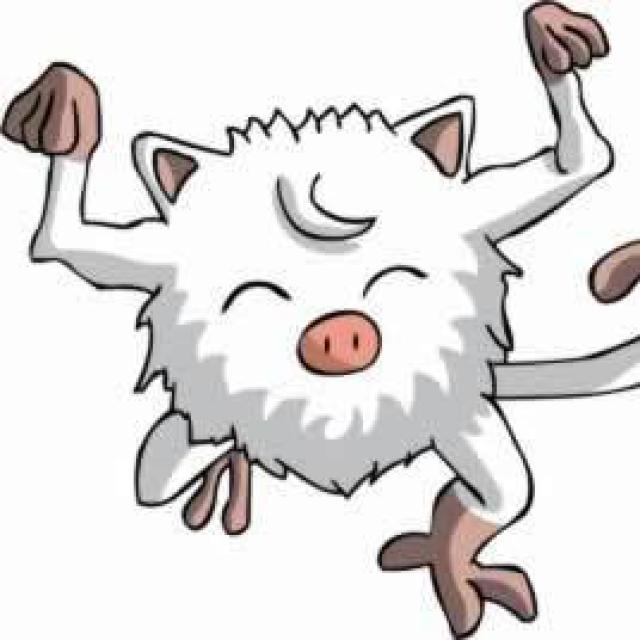Mankey: (136, 64, 530, 503)
